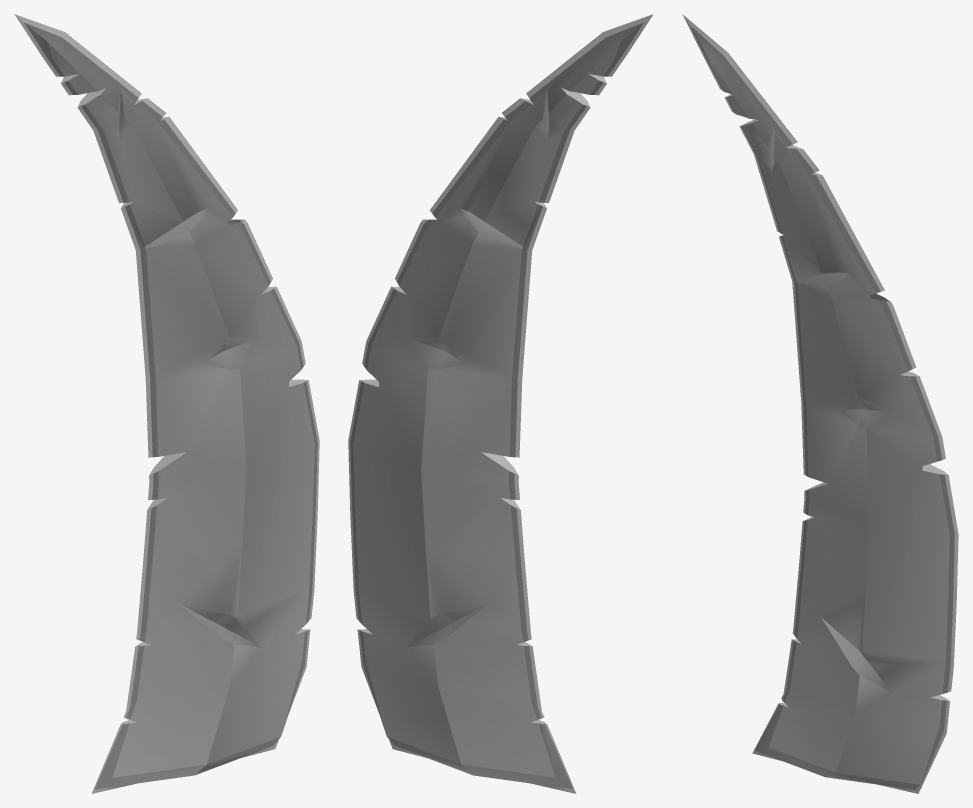
The model's file is stone_blade_scratched_052.glb.
3 renders of one model, left to right at view 1: azimuth 30°, elevation 25°; view 2: azimuth 150°, elevation 25°; view 3: azimuth 330°, elevation 25°, orthographic. The views are drawn at different scales.
Visible parts, largest first — view 1: stone_blade_scratched.052; view 2: stone_blade_scratched.052; view 3: stone_blade_scratched.052.
Boxes of the visible parts, <box> form: stone_blade_scratched.052: <box>14,14,319,793</box>; stone_blade_scratched.052: <box>348,14,653,793</box>; stone_blade_scratched.052: <box>682,14,958,793</box>.
Bounding box in the file's own units: 4.91 × 12.29 × 0.7262.
Materials: 1 (1 with a texture image).
